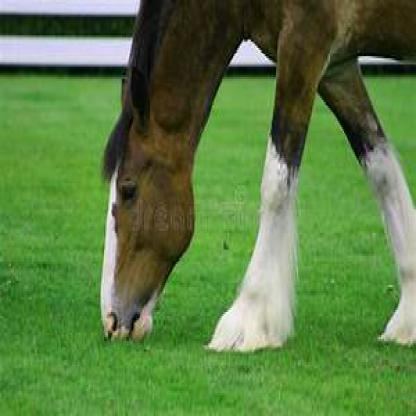horse: (100, 0, 414, 356)
